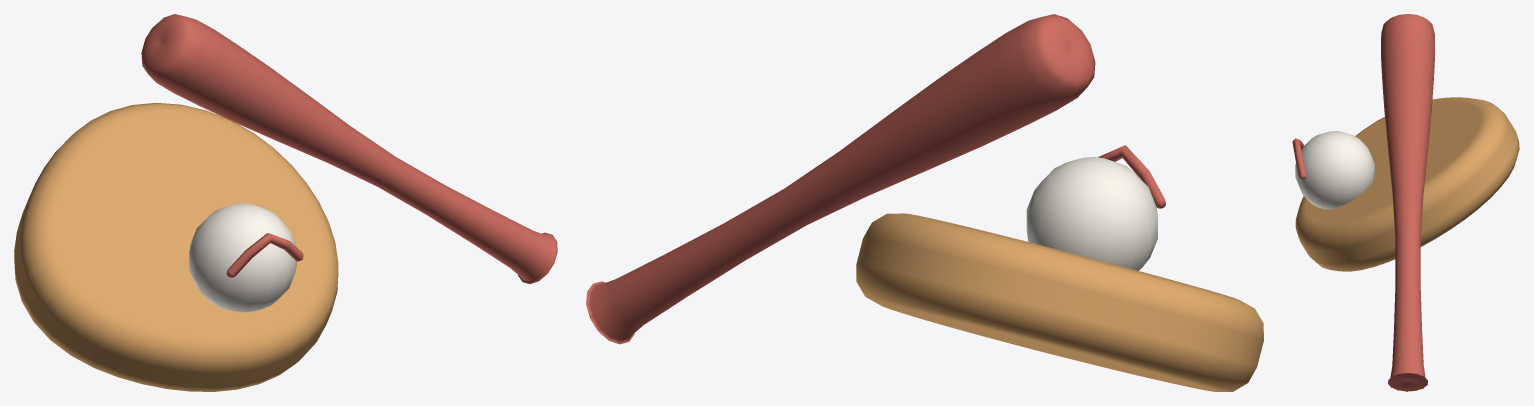
Rendered from baseball_set.glb.
3 views of the same model, side by side, from view 1: azimuth 30°, elevation 25°; view 2: azimuth 150°, elevation 25°; view 3: azimuth 270°, elevation 25° (orthographic). The views are drawn at different scales.
Visible parts, largest first — view 1: baseball_set_mesh; view 2: baseball_set_mesh; view 3: baseball_set_mesh.
Boxes of the visible parts, x1=… form: baseball_set_mesh: x1=14, y1=14, x2=557, y2=391; baseball_set_mesh: x1=586, y1=14, x2=1263, y2=391; baseball_set_mesh: x1=1292, y1=14, x2=1519, y2=391.
Size of the model in its own units: 0.5539 by 0.3486 by 0.281.
